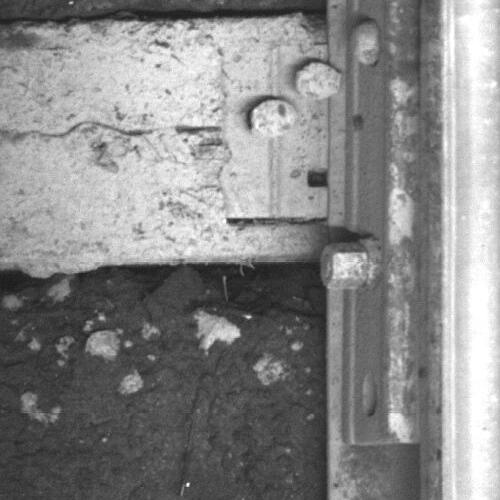do: (219, 40, 345, 219)
fp_end: (343, 419, 421, 466)
hole_do: (295, 159, 338, 194)
rail: (440, 1, 500, 500)
tie_wood: (1, 21, 325, 261)
wood_crack: (2, 115, 222, 148)
